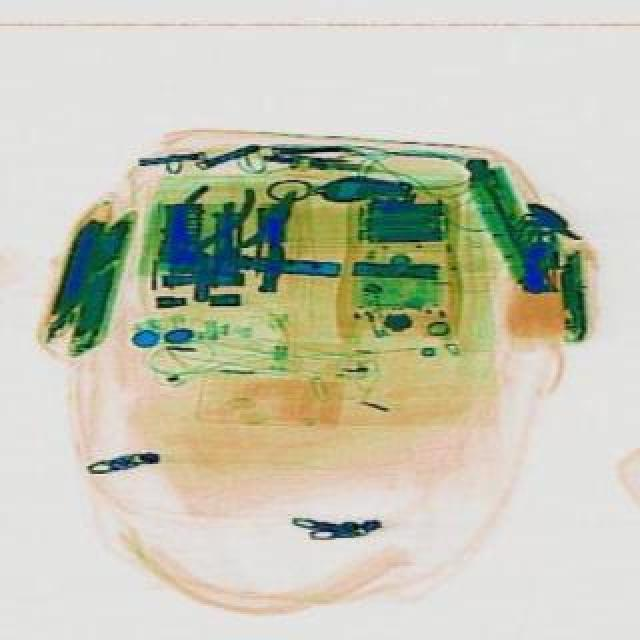wrench: (198, 174, 314, 308), (140, 166, 260, 294)
